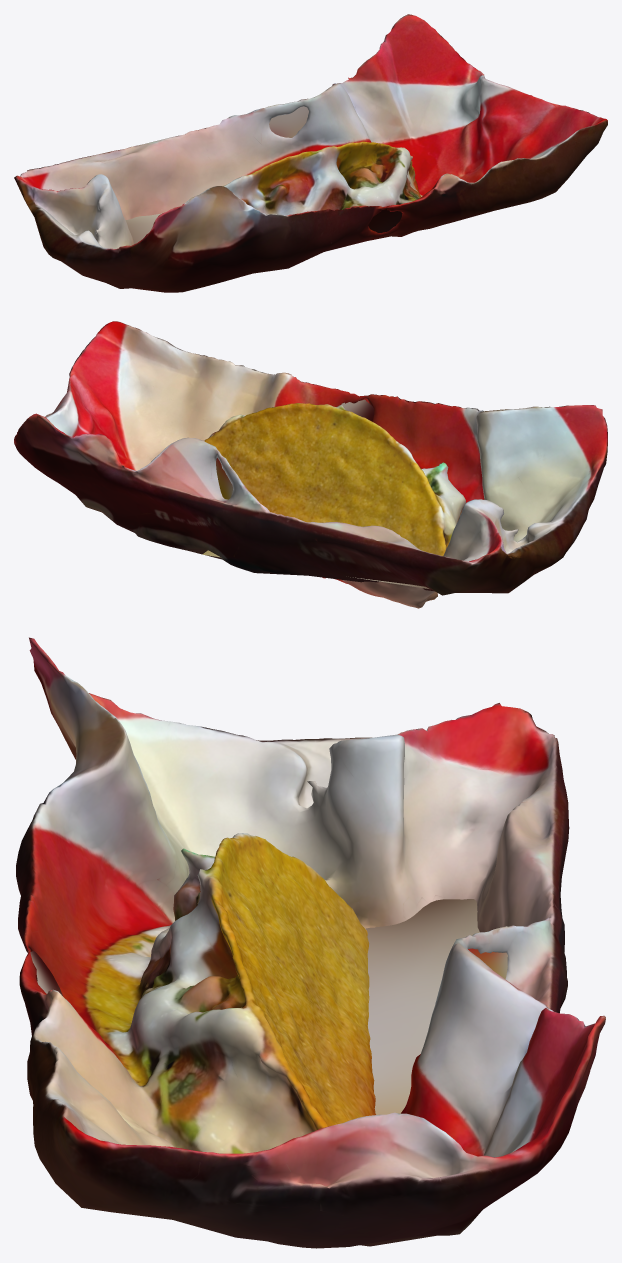
Rendered from Hard_Chicken_And_Beef(Tacos_Category)_1757459984599.glb.
3 renders of one model, top to bottom at view 1: azimuth 30°, elevation 25°; view 2: azimuth 150°, elevation 25°; view 3: azimuth 270°, elevation 25°, orthographic. The views are drawn at different scales.
Parts seen in each view (by area): view 1: 3DModel; view 2: 3DModel; view 3: 3DModel.
Boxes of the visible parts, x1,y1,x2,y2 form: 3DModel: (14,14,607,292); 3DModel: (14,321,607,608); 3DModel: (16,637,605,1248).
Bounding box in the file's own units: 0.2381 × 0.0657 × 0.1219.
1 material, 1 textured.
